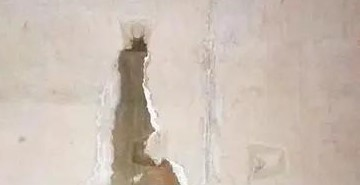Corrosion: (109, 34, 181, 185)
